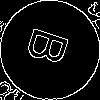B: (25, 25, 79, 71)
